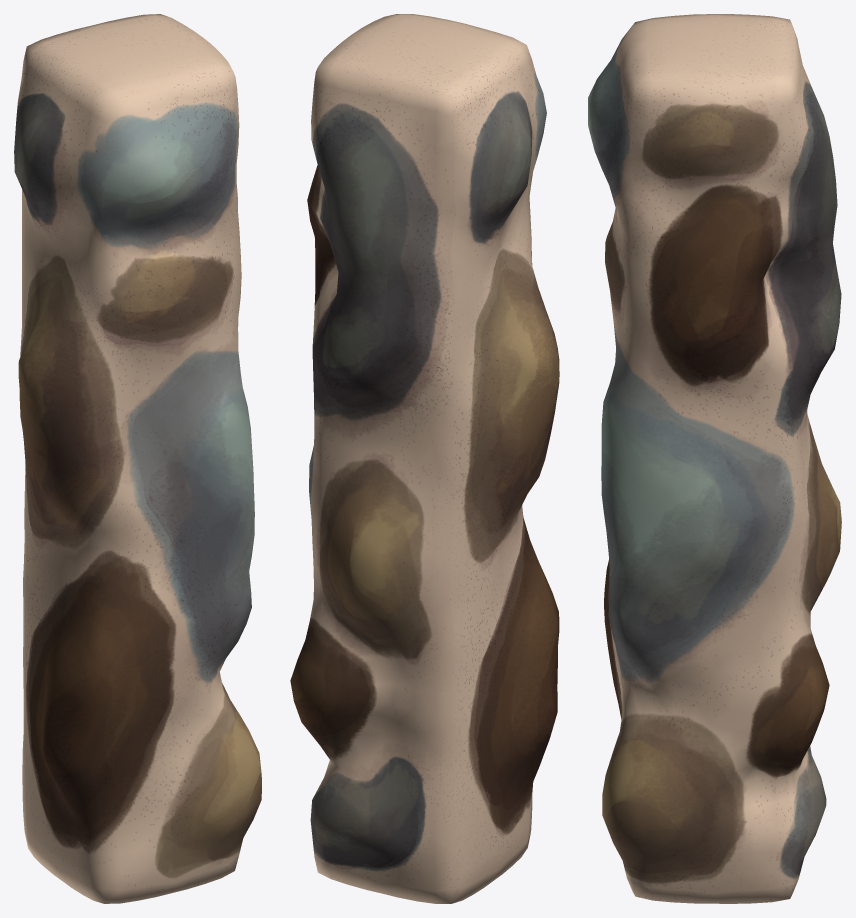
Rendered from CobbleTall.fbx.
3 renders of one model, left to right at view 1: azimuth 30°, elevation 25°; view 2: azimuth 150°, elevation 25°; view 3: azimuth 270°, elevation 25°, orthographic.
Parts seen in each view (by area): view 1: CobbleTall; view 2: CobbleTall; view 3: CobbleTall.
Boxes of the visible parts, bbox=[...] form: CobbleTall: bbox=[14, 14, 261, 903]; CobbleTall: bbox=[290, 14, 559, 903]; CobbleTall: bbox=[588, 14, 841, 903].
Size of the model in its own units: 21.36 by 78.18 by 21.43.
Materials: 1 (1 with a texture image).
